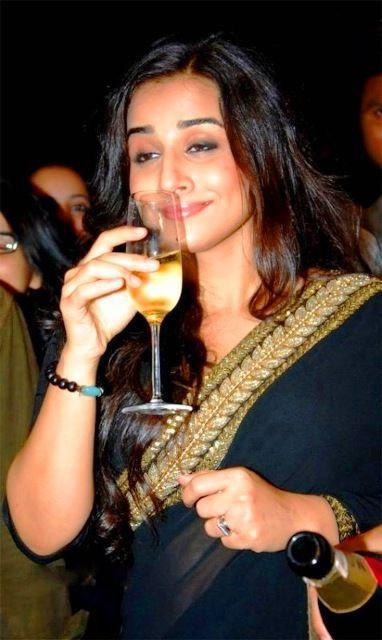Drunk: (126, 79, 246, 254)
